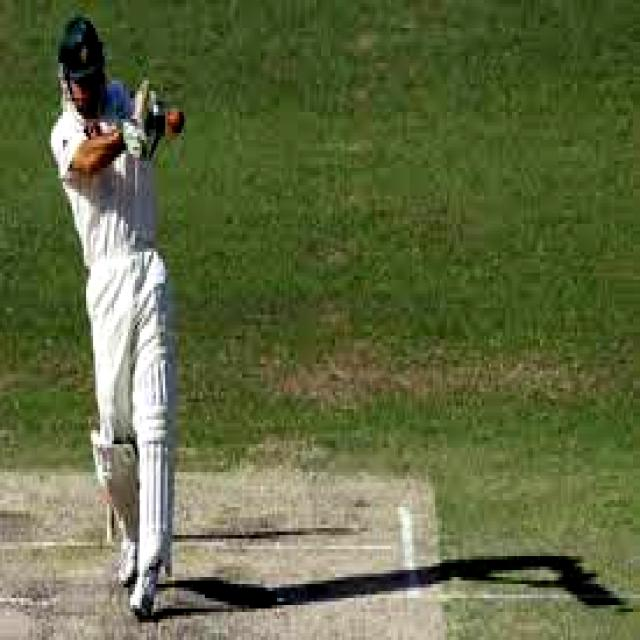toe: (134, 82, 154, 124)
